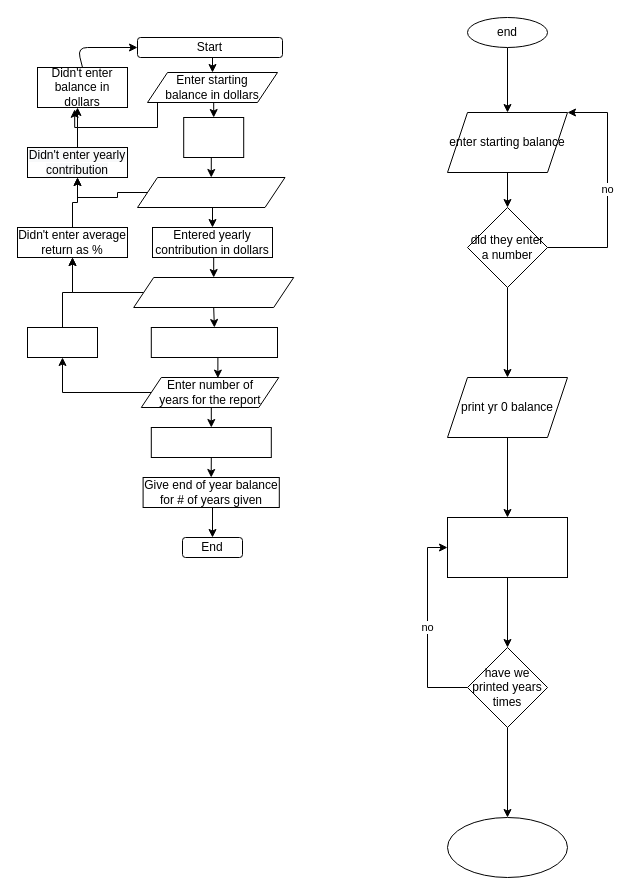
The diagram is 633 pixels wide and 895 high, and some of its shapes have lost their labels. The shapes that lost their labels are listed below. From the top down, each one's centre as x and y in pixels, then its label:
point 213,137: Entered balance in dollars
point 210,192: Enter yearly contribution in dollars
point 213,292: Enter average return on investment as %
point 62,342: Didn't enter # of years
point 214,342: Entered average return on investment as %
point 210,442: Entered number of years for the report
point 507,547: do math to calc next year balance and print
